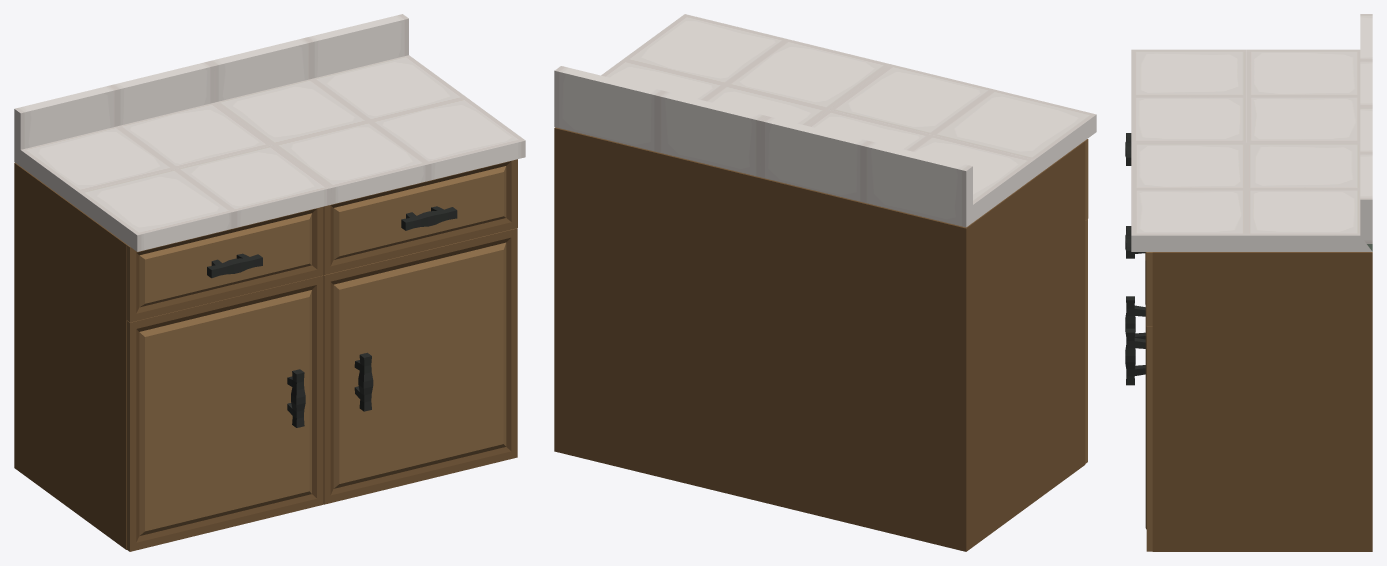
Rendered from SM_Prop_KitchenTabletop_01.obj.
The picture shows the model from 3 angles, left to right: view 1: azimuth 30°, elevation 25°; view 2: azimuth 150°, elevation 25°; view 3: azimuth 270°, elevation 25°; orthographic projection. The views are drawn at different scales.
Parts seen in each view (by area): view 1: SM_Prop_KitchenTabletop_01_Mat_SwatchOverlay_Farm_01_Wood_Inst, SM_Prop_KitchenTabletop_01_Mat_SwatchOverlay_Farm_Main_01_Inst, SM_Prop_KitchenTabletop_01_Mat_SwatchOverlay_Farm_01_Inst; view 2: SM_Prop_KitchenTabletop_01_Mat_SwatchOverlay_Farm_01_Wood_Inst, SM_Prop_KitchenTabletop_01_Mat_SwatchOverlay_Farm_Main_01_Inst; view 3: SM_Prop_KitchenTabletop_01_Mat_SwatchOverlay_Farm_01_Wood_Inst, SM_Prop_KitchenTabletop_01_Mat_SwatchOverlay_Farm_Main_01_Inst, SM_Prop_KitchenTabletop_01_Mat_SwatchOverlay_Farm_01_Inst.
Boxes of the visible parts, box(x1,y1,x2,y2) form: SM_Prop_KitchenTabletop_01_Mat_SwatchOverlay_Farm_01_Wood_Inst: box(14, 159, 517, 551); SM_Prop_KitchenTabletop_01_Mat_SwatchOverlay_Farm_Main_01_Inst: box(14, 14, 525, 251); SM_Prop_KitchenTabletop_01_Mat_SwatchOverlay_Farm_01_Inst: box(207, 206, 457, 427); SM_Prop_KitchenTabletop_01_Mat_SwatchOverlay_Farm_01_Wood_Inst: box(554, 127, 1088, 551); SM_Prop_KitchenTabletop_01_Mat_SwatchOverlay_Farm_Main_01_Inst: box(554, 14, 1096, 227); SM_Prop_KitchenTabletop_01_Mat_SwatchOverlay_Farm_01_Wood_Inst: box(1145, 252, 1372, 551); SM_Prop_KitchenTabletop_01_Mat_SwatchOverlay_Farm_Main_01_Inst: box(1131, 14, 1372, 251); SM_Prop_KitchenTabletop_01_Mat_SwatchOverlay_Farm_01_Inst: box(1125, 133, 1145, 385).
Bounding box in the file's own units: 1.11 × 0.983 × 0.6263.
3 materials, 3 textured.
